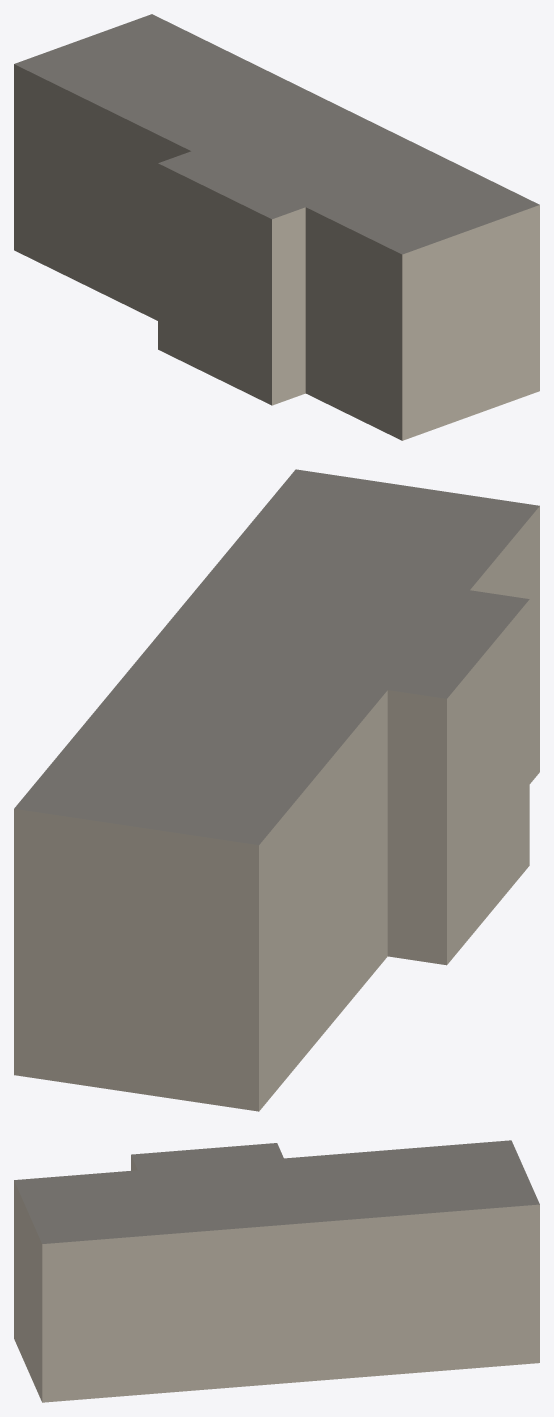
3 renders of one model, top to bottom at view 1: azimuth 30°, elevation 25°; view 2: azimuth 150°, elevation 25°; view 3: azimuth 270°, elevation 25°, orthographic. The views are drawn at different scales.
Visible parts, largest first — view 1: HP-w702173895; view 2: HP-w702173895; view 3: HP-w702173895.
Boxes of the visible parts, <box> form: HP-w702173895: <box>14,14,539,440</box>; HP-w702173895: <box>14,469,539,1111</box>; HP-w702173895: <box>14,1140,539,1402</box>.
Bounding box in the file's own units: 25.3 × 18 × 54.13.
